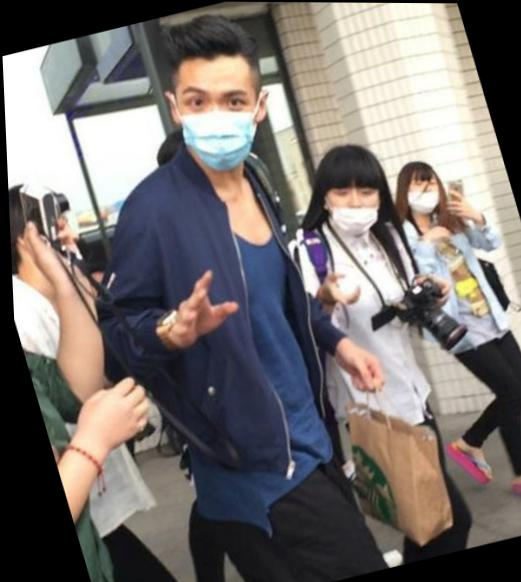OK: (162, 66, 274, 179)
WRONG: (317, 170, 389, 240), (398, 172, 445, 219)
